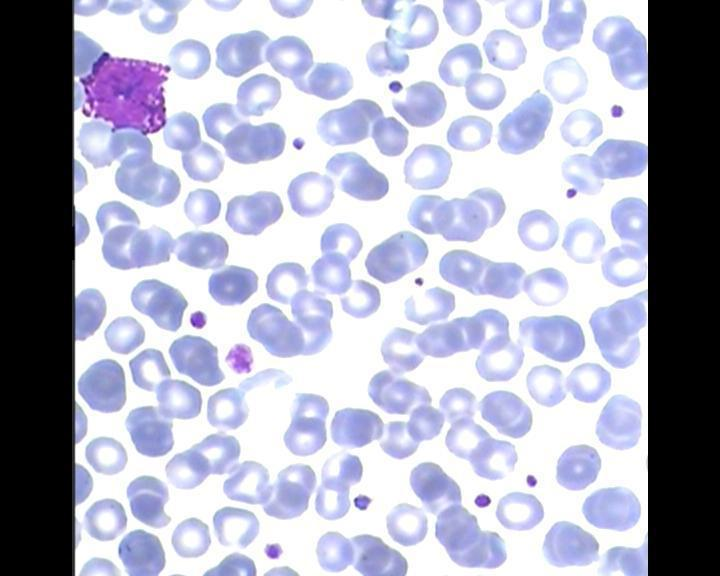baso: (73, 48, 171, 139)
